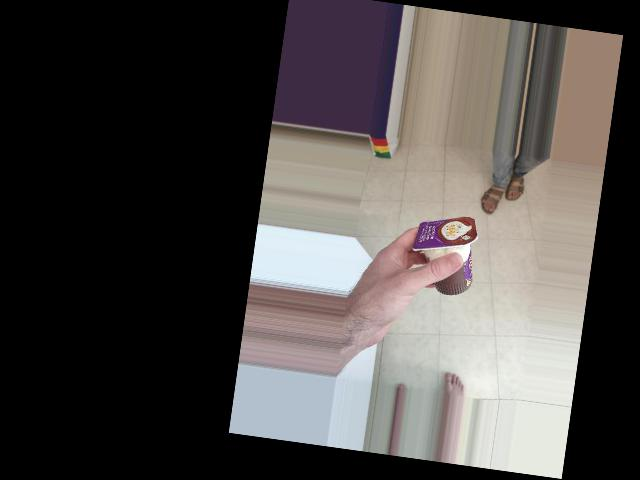milky: (423, 204, 521, 276)
